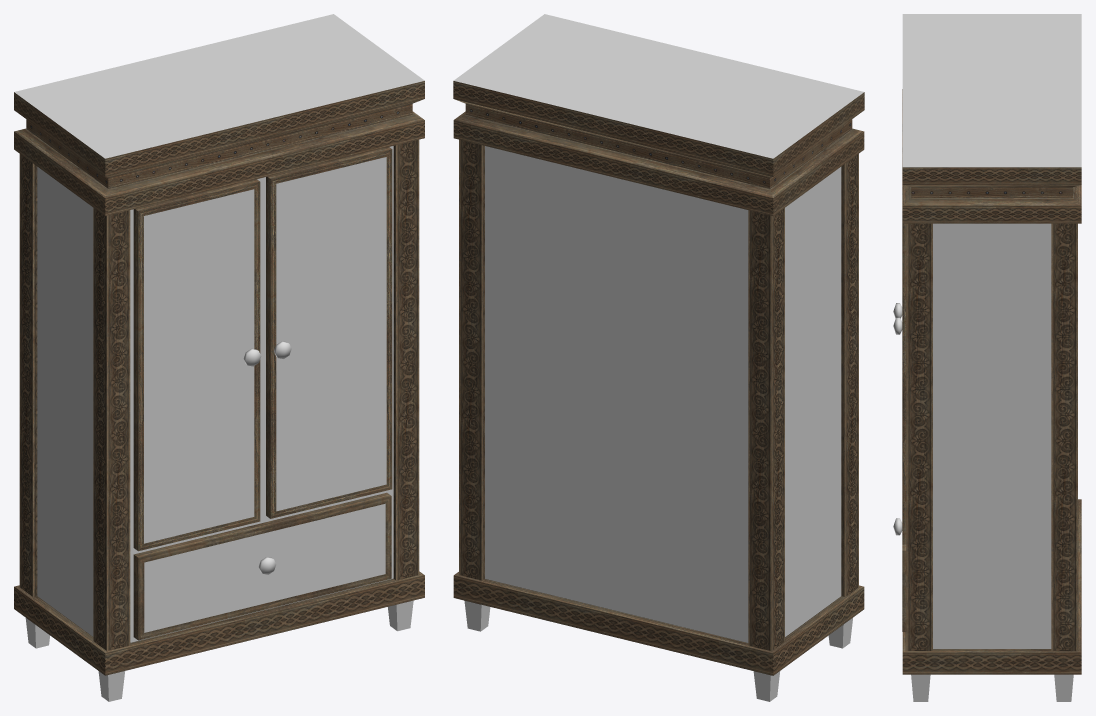
The model's file is wardrobe3.fbx.
The picture shows the model from 3 angles, left to right: view 1: azimuth 30°, elevation 25°; view 2: azimuth 150°, elevation 25°; view 3: azimuth 270°, elevation 25°; orthographic projection.
Parts seen in each view (by area): view 1: polySurface1548; view 2: polySurface1548; view 3: polySurface1548.
Part boxes in pixels (x1,y1,x2,y2): polySurface1548: (14, 14, 424, 701); polySurface1548: (453, 14, 864, 701); polySurface1548: (893, 14, 1081, 701).
Bounding box in the file's own units: 1.63 × 2.68 × 0.8481.
